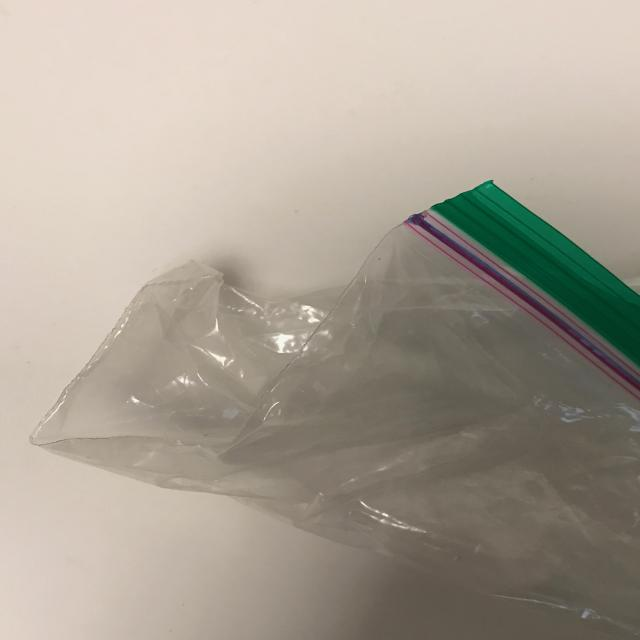trash: (29, 178, 640, 640)
